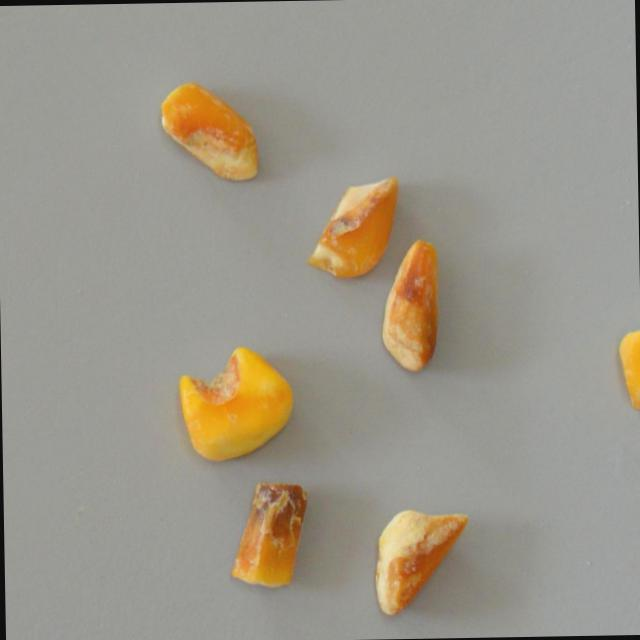dañado: (174, 339, 300, 468), (369, 502, 475, 626), (154, 75, 267, 190), (300, 164, 408, 284), (225, 472, 317, 595), (375, 233, 449, 377), (610, 316, 640, 416)
